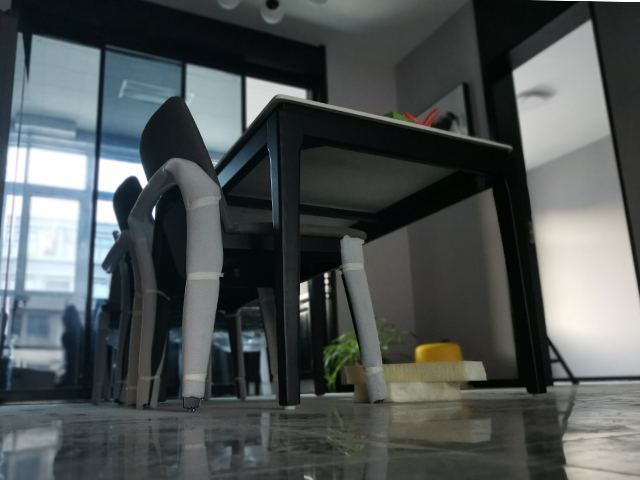stool: (137, 95, 392, 413), (100, 178, 264, 410)
table: (212, 93, 546, 412)
